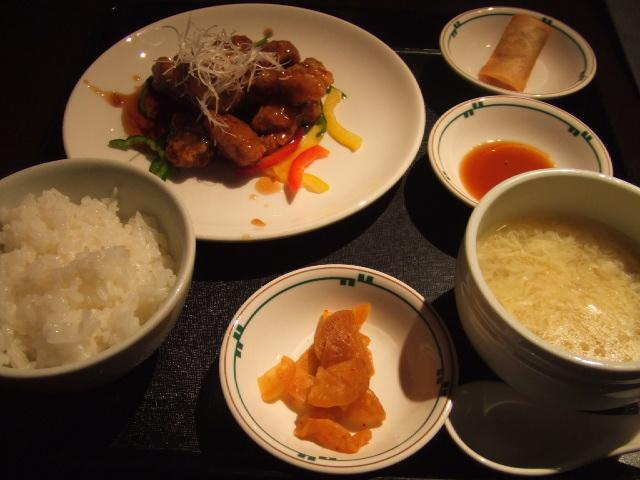plate: (63, 4, 424, 240), (0, 159, 195, 393)
rice: (0, 189, 175, 369)
